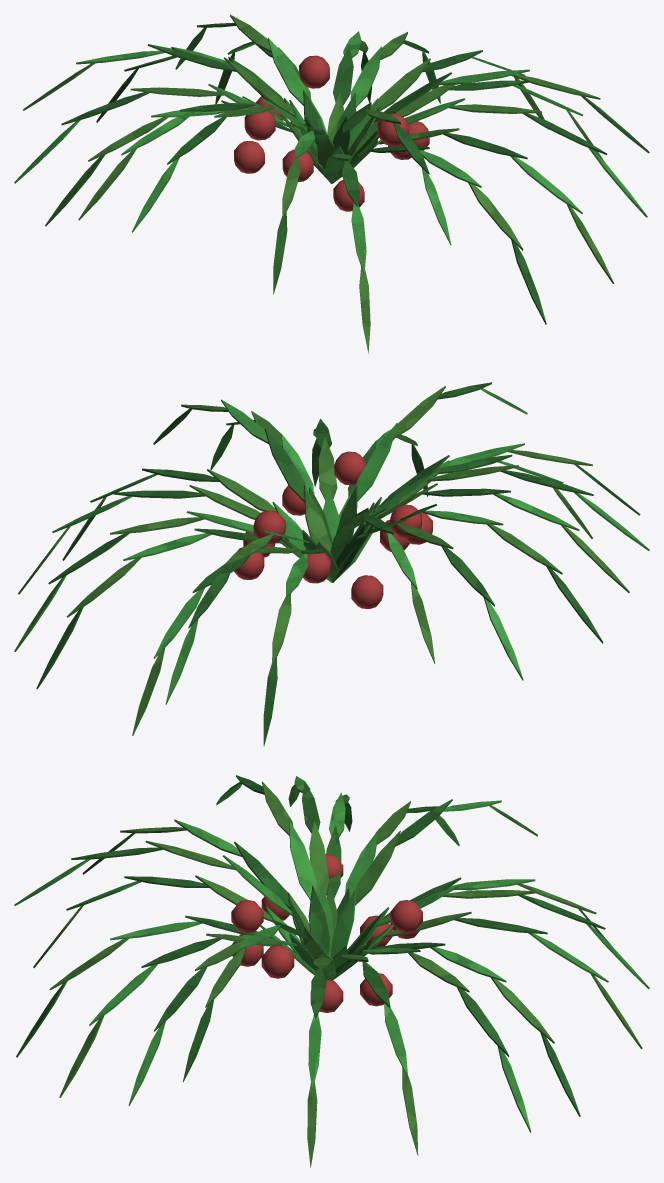
File: berry_bush.glb
3 renders of one model, top to bottom at view 1: azimuth 30°, elevation 25°; view 2: azimuth 150°, elevation 25°; view 3: azimuth 270°, elevation 25°, orthographic. The views are drawn at different scales.
Visible parts, largest first — view 1: plant, Wild berry patch; view 2: plant, Wild berry patch; view 3: plant, Wild berry patch.
Part boxes in pixels (x1,y1,x2,y2): plant: (14, 14, 649, 353); Wild berry patch: (234, 55, 429, 211); plant: (14, 382, 649, 746); Wild berry patch: (234, 451, 432, 608); plant: (14, 775, 649, 1167); Wild berry patch: (231, 853, 422, 1012).
Size of the model in its own units: 1.68 by 0.5395 by 1.67.
4 materials, 3 textured.
